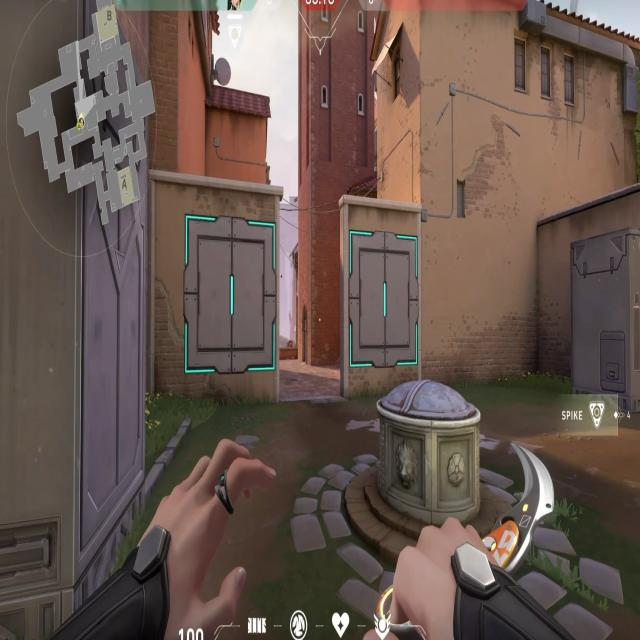Mid_Wall: (173, 170, 285, 412), (337, 185, 427, 409)
